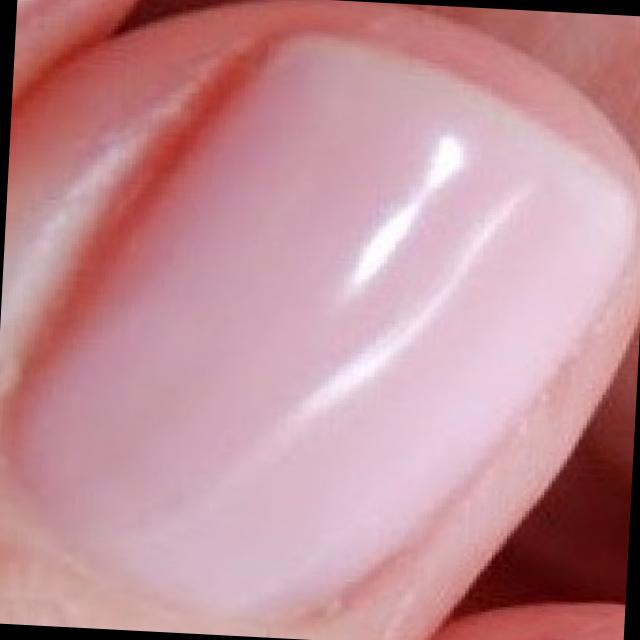Nail: (12, 36, 637, 627)
